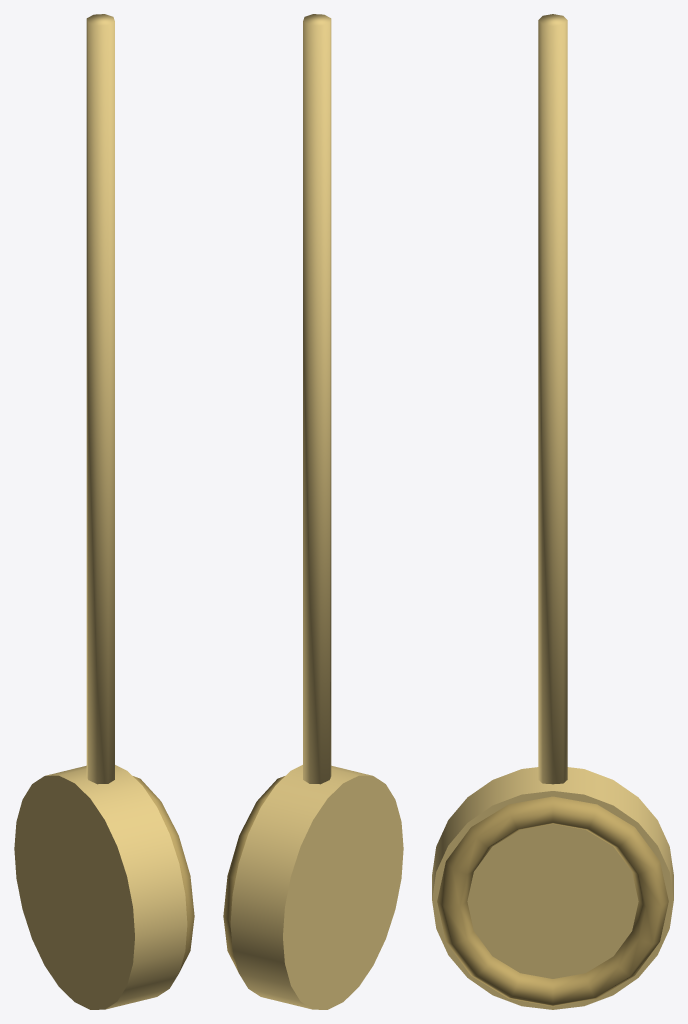
Rendered from clock_pendulum.glb.
The picture shows the model from 3 angles, left to right: view 1: azimuth 30°, elevation 25°; view 2: azimuth 150°, elevation 25°; view 3: azimuth 270°, elevation 25°; orthographic projection.
Parts seen in each view (by area): view 1: clock_pendulum; view 2: clock_pendulum; view 3: clock_pendulum.
Part boxes in pixels (bbox=[...]): clock_pendulum: bbox=[14, 14, 194, 1009]; clock_pendulum: bbox=[223, 14, 403, 1009]; clock_pendulum: bbox=[432, 14, 673, 1009].
Bounding box in the file's own units: 0.0313 × 0.4435 × 0.0995.
